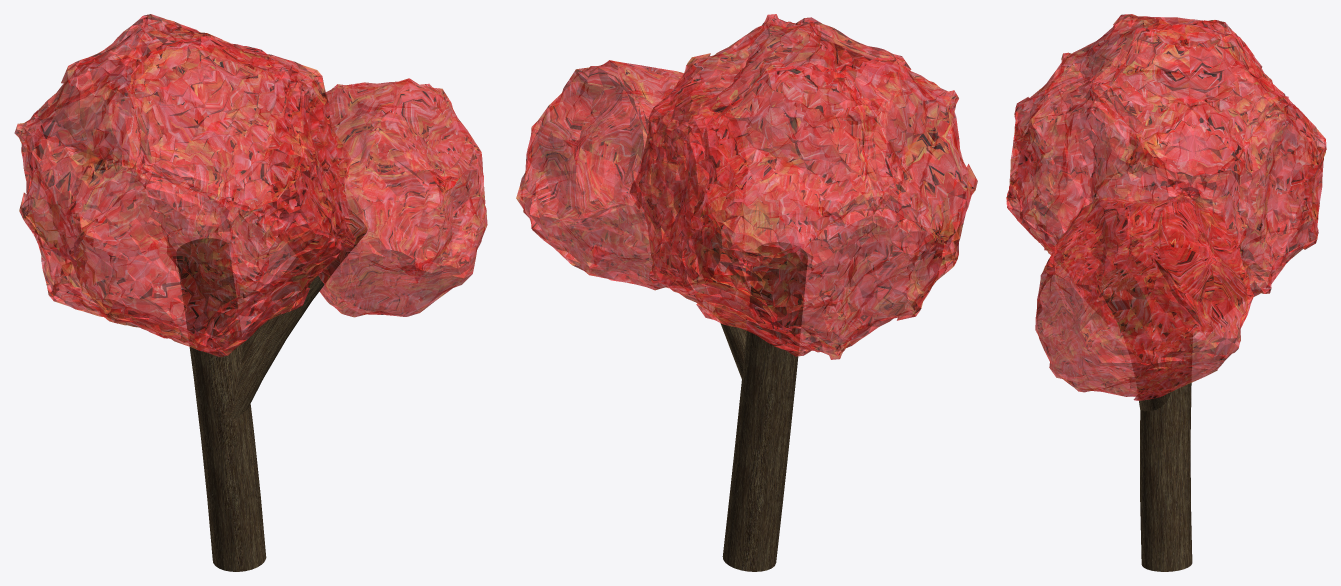
Rendered from baum1.DAE.
3 views of the same model, side by side, from view 1: azimuth 30°, elevation 25°; view 2: azimuth 150°, elevation 25°; view 3: azimuth 270°, elevation 25° (orthographic). The views are drawn at different scales.
Visible parts, largest first — view 1: Geosph_re002, Geosph_re001, Baum, Zylinder001; view 2: Geosph_re002, Geosph_re001, Baum, Zylinder001; view 3: Geosph_re002, Geosph_re001, Baum, Zylinder001.
Part boxes in pixels (x1,y1,x2,y2): Geosph_re002: (14,14,355,357); Geosph_re001: (268,78,487,317); Baum: (176,238,266,571); Zylinder001: (223,209,367,418); Geosph_re002: (630,14,977,359); Geosph_re001: (516,60,746,290); Baum: (722,242,807,571); Zylinder001: (696,176,749,378); Geosph_re002: (1006,14,1326,296); Geosph_re001: (1035,194,1254,400); Baum: (1140,330,1192,571); Zylinder001: (1100,269,1171,411).
Bounding box in the file's own units: 70.58 × 49.08 × 87.18.
